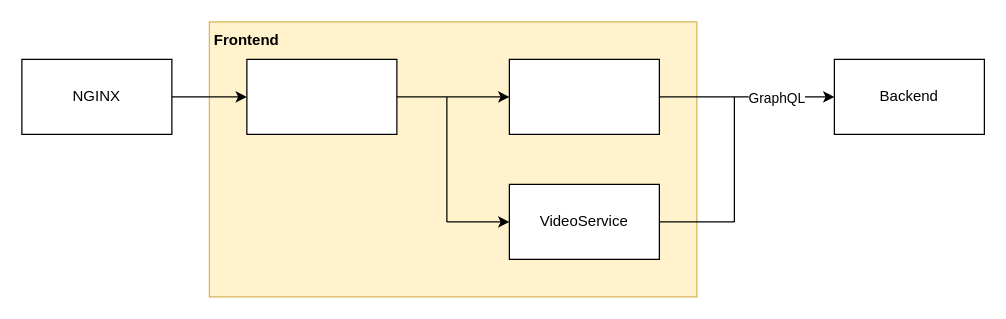
Image size: 1006x319. Some labels were removed from this diagram. The shapes that lost their labels are listed below. From the top down, each one's centre as x and y in pixels, then its label:
point 321,96: UI
point 583,96: UserService
